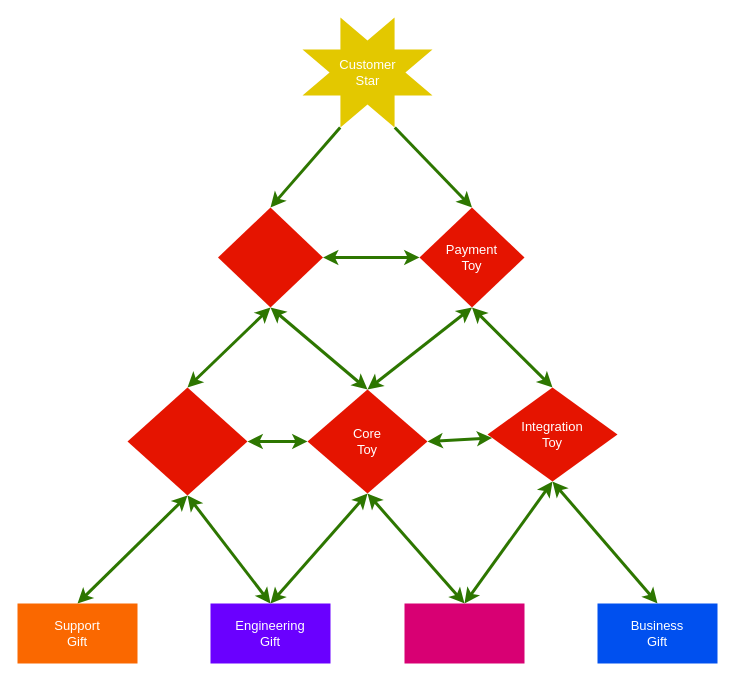
This 734x680 diagram has some shape labels left out. Here are the shapes that lost their labels. From the top down, the centre of each, then its label:
At point 270,257: "API Toy".
At point 187,441: "Supplier Toy".
At point 464,633: "Platform Gift".
